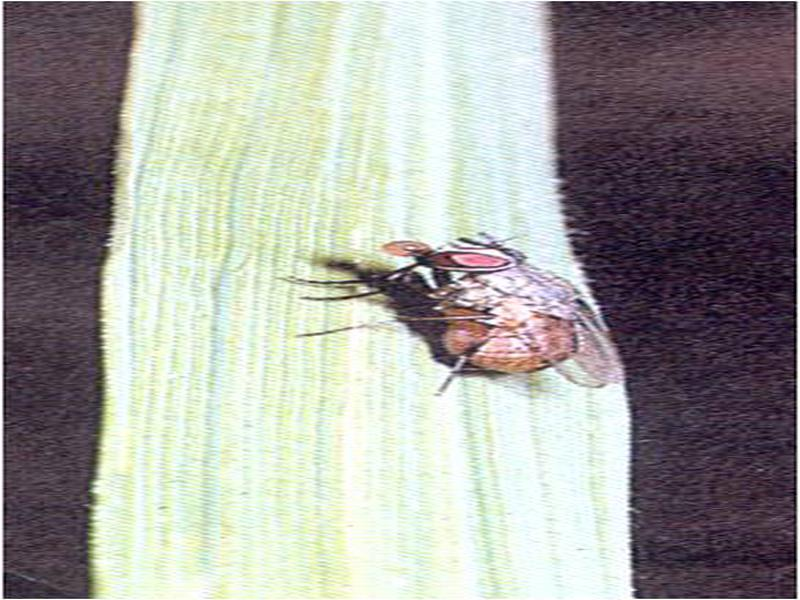Whorl_maggot: (309, 219, 640, 409)
